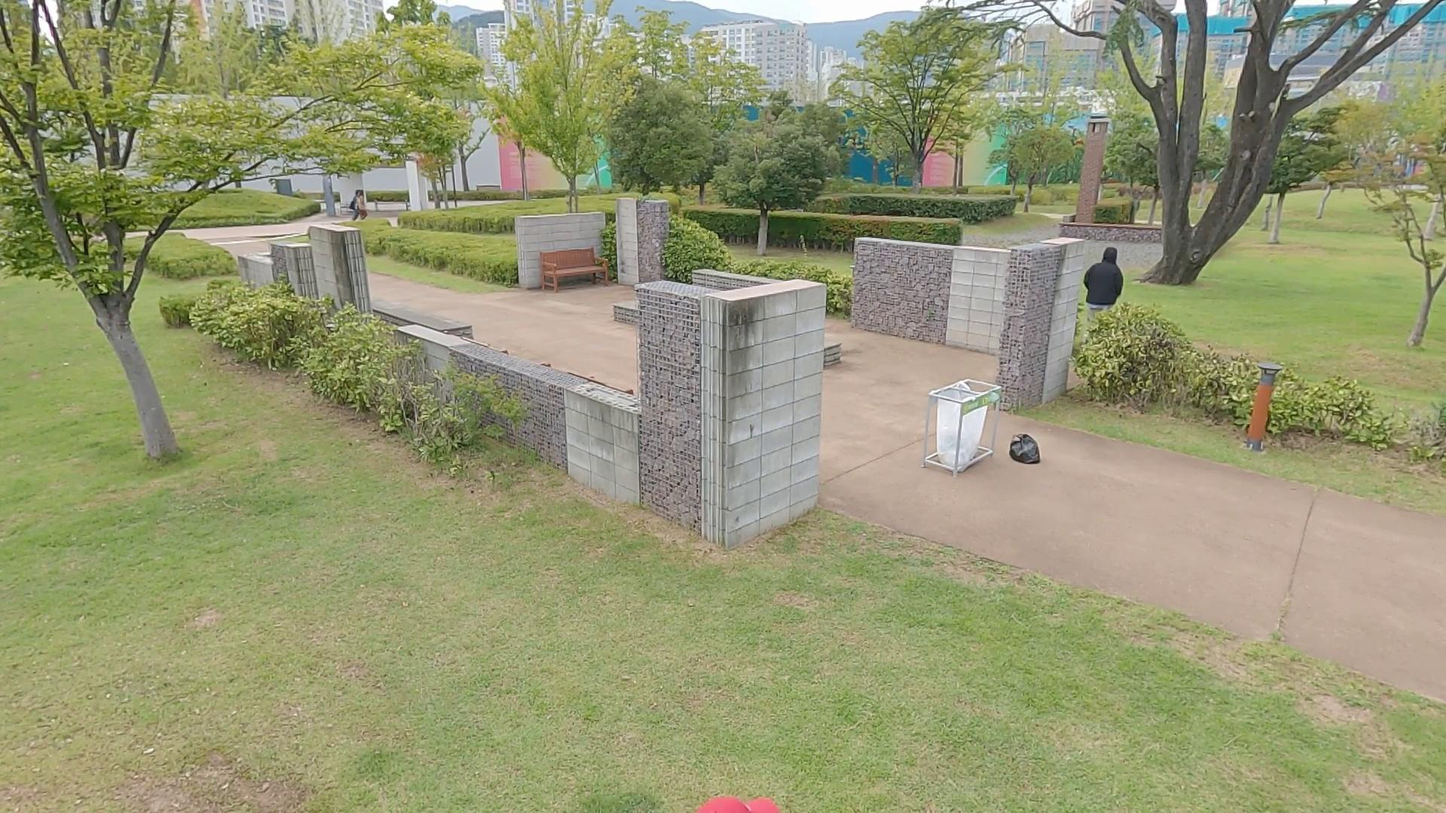person: (1085, 243, 1124, 325)
trash: (1009, 430, 1043, 466)
